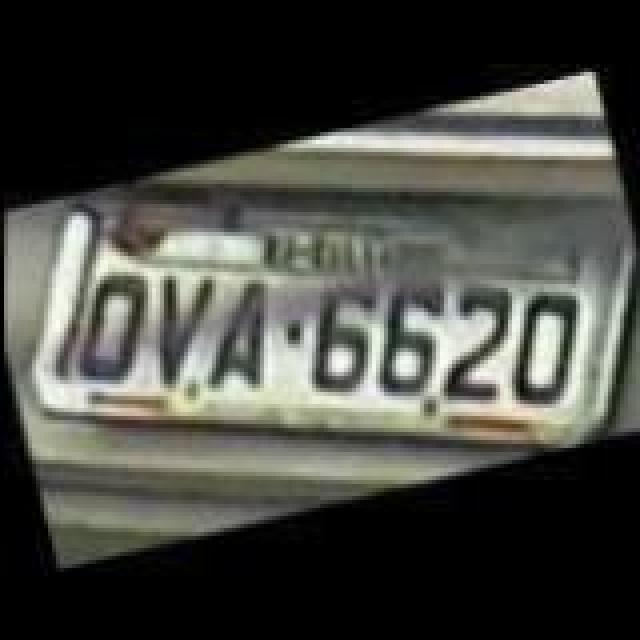2: (416, 278, 528, 410)
6: (354, 270, 470, 402), (286, 276, 394, 400)
A: (182, 278, 290, 394)
O: (484, 278, 596, 410), (52, 268, 164, 388)
V: (126, 254, 242, 386)
